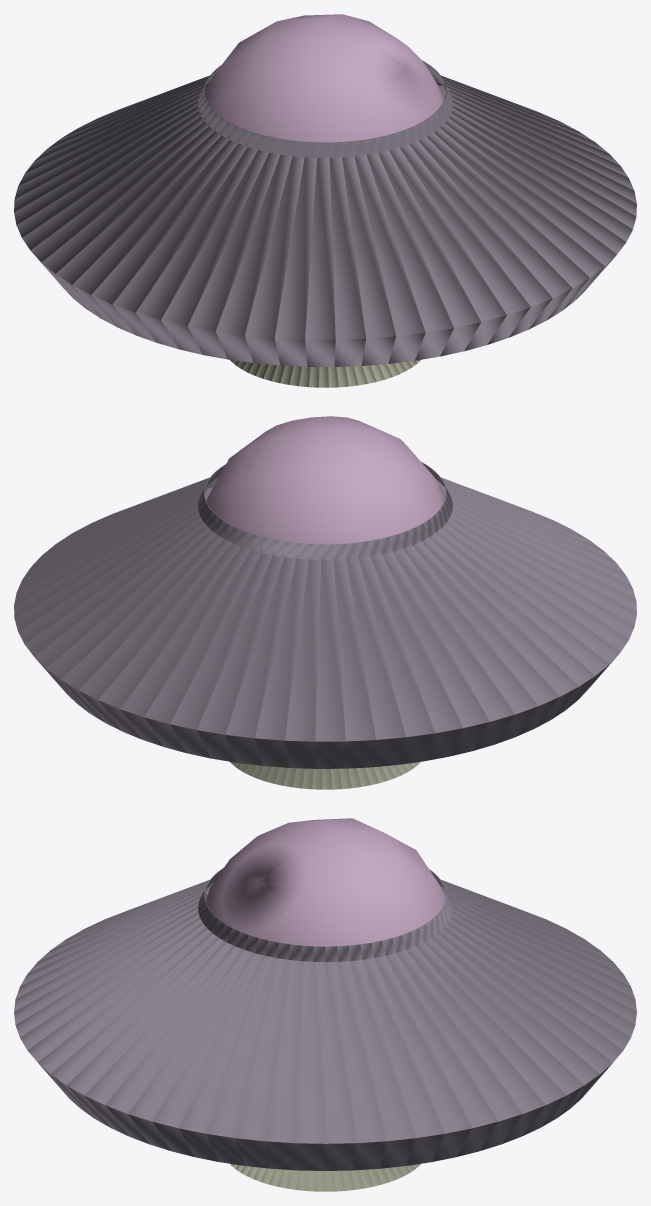
File: ufo.fbx
The picture shows the model from 3 angles, top to bottom: view 1: azimuth 30°, elevation 25°; view 2: azimuth 150°, elevation 25°; view 3: azimuth 270°, elevation 25°; orthographic projection.
Visible parts, largest first — view 1: ufo; view 2: ufo; view 3: ufo.
Part boxes in pixels (x1,y1,x2,y2): ufo: (14,14,636,387); ufo: (14,416,636,789); ufo: (14,818,636,1191).
Size of the model in its own units: 16.95 by 9.59 by 16.95.
